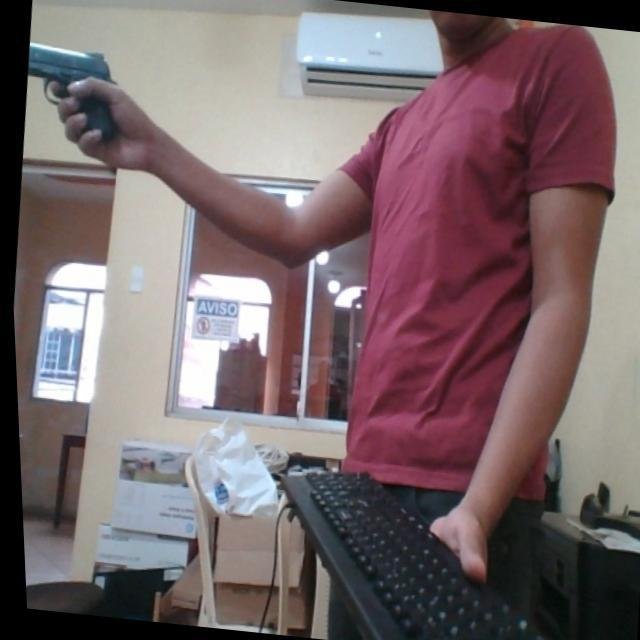weapon: (19, 39, 124, 144)
